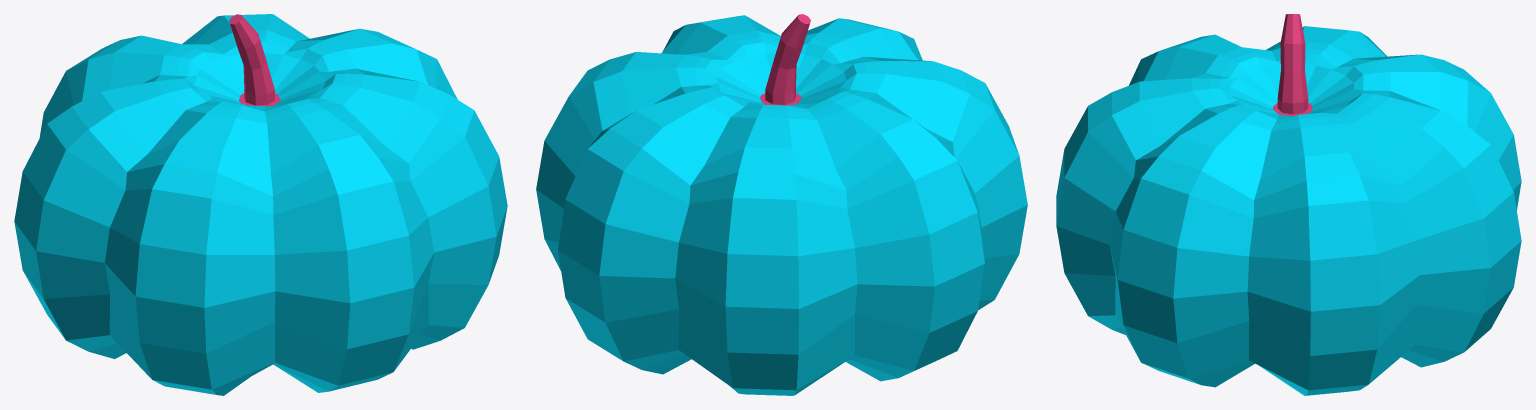
Rendered from Pumpink.fbx.
3 renders of one model, left to right at view 1: azimuth 30°, elevation 25°; view 2: azimuth 150°, elevation 25°; view 3: azimuth 270°, elevation 25°, orthographic. The views are drawn at different scales.
Visible parts, largest first — view 1: Pumpink; view 2: Pumpink; view 3: Pumpink.
Boxes of the visible parts, x1,y1,x2,y2 form: Pumpink: [14, 14, 507, 395]; Pumpink: [536, 14, 1027, 395]; Pumpink: [1056, 14, 1521, 395].
Size of the model in its own units: 55.79 by 39.74 by 54.4.
